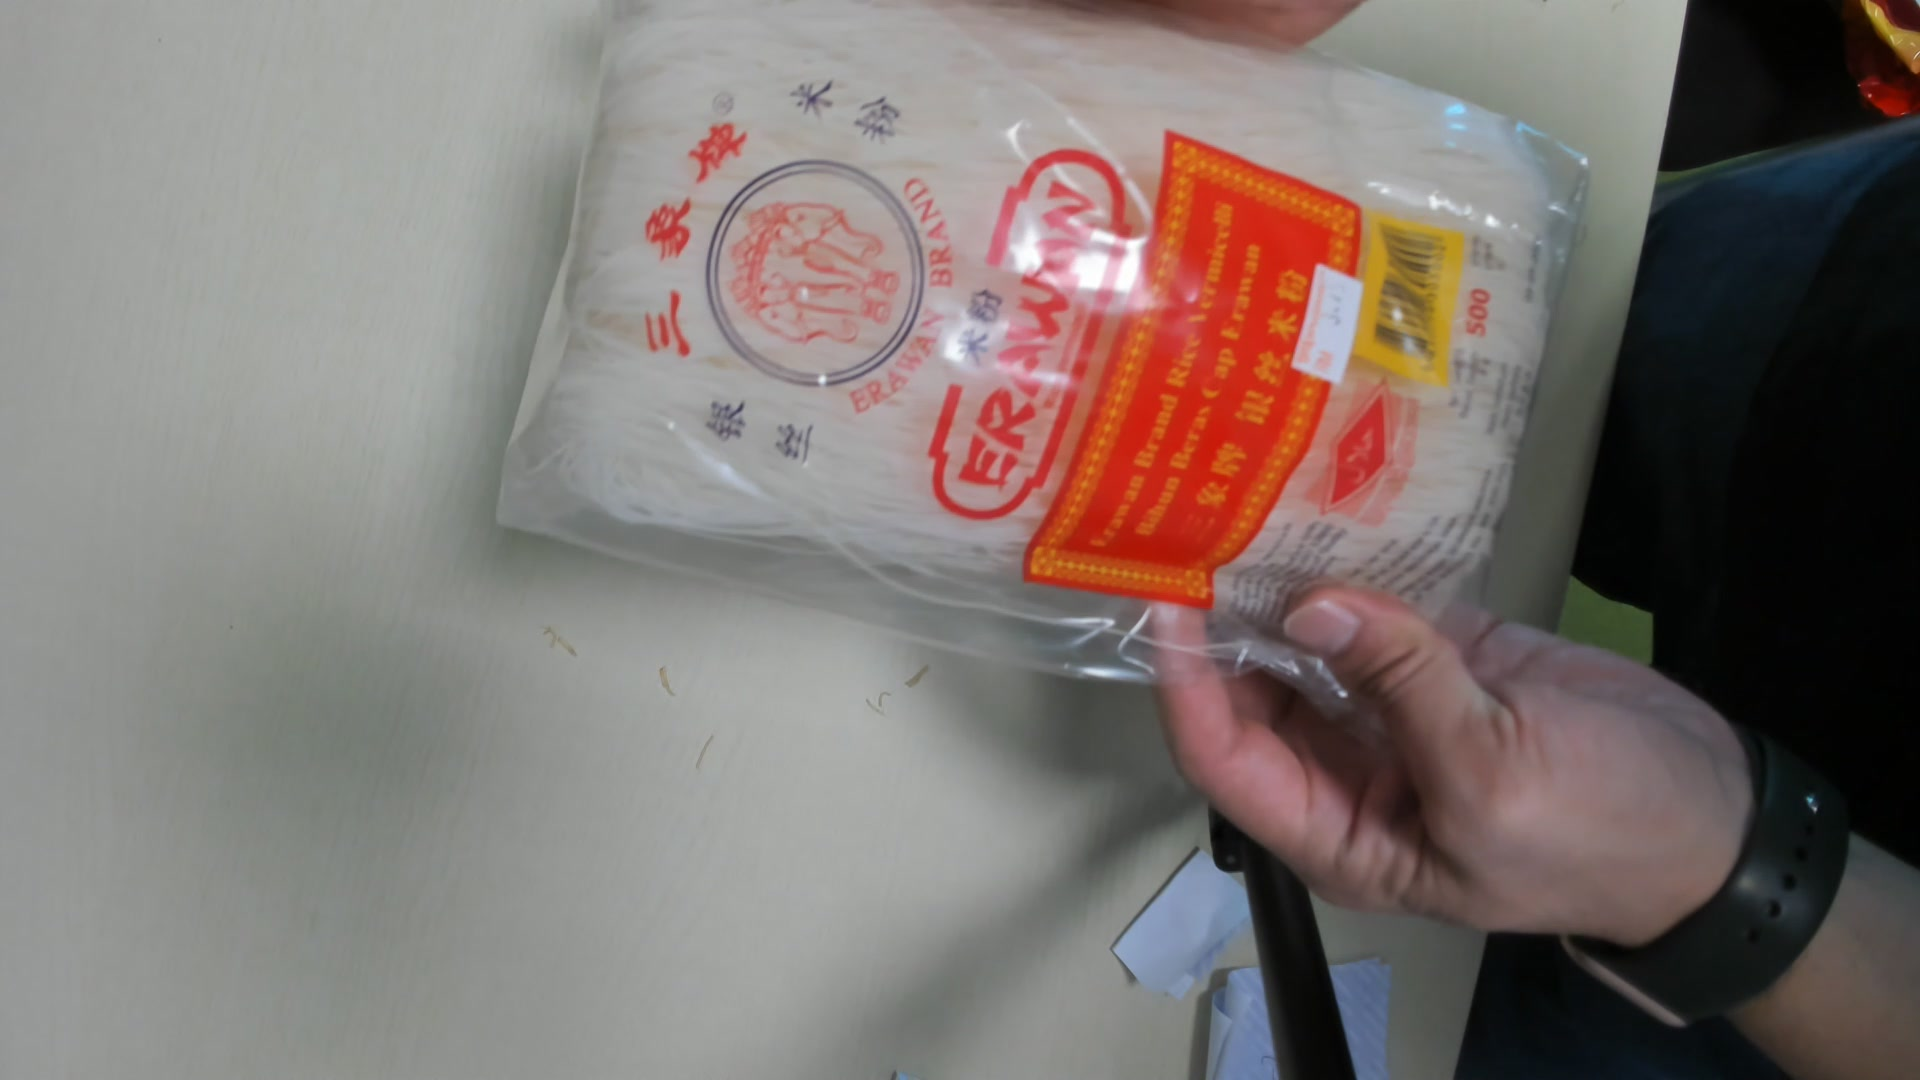BeeHoonVermicelli_500-599g_Halal_NonHealthy: (510, 8, 1593, 705)
